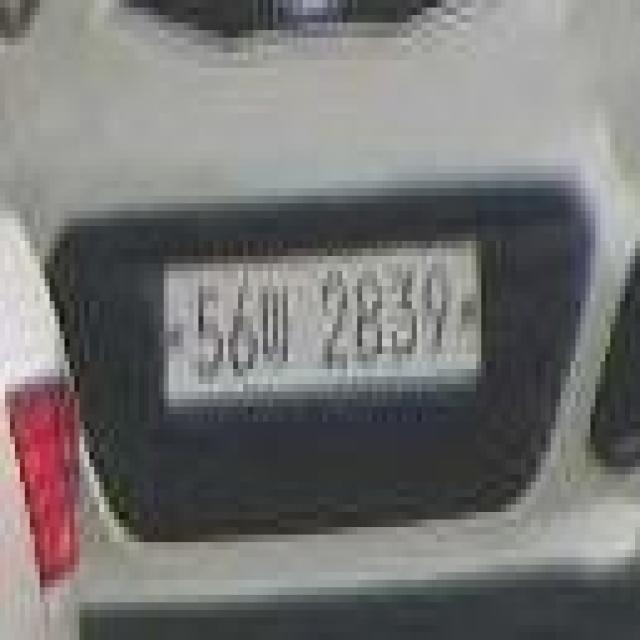illegal_plate: (160, 232, 490, 422)
